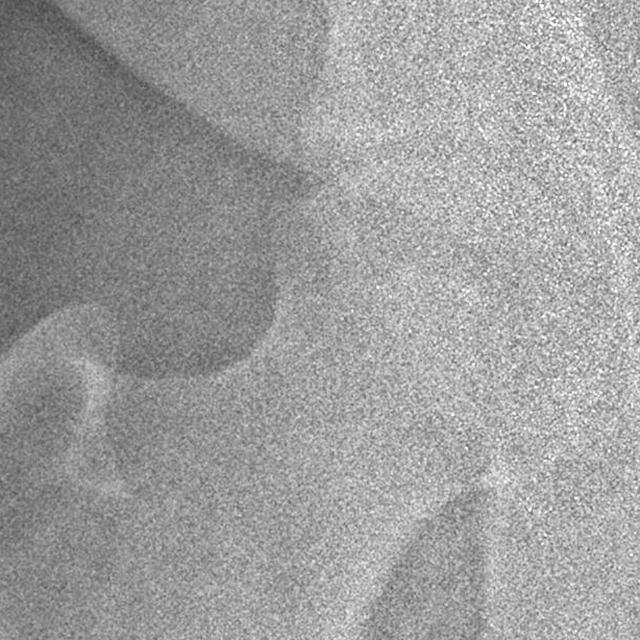Fitted_femural_head: (357, 150, 432, 357)
